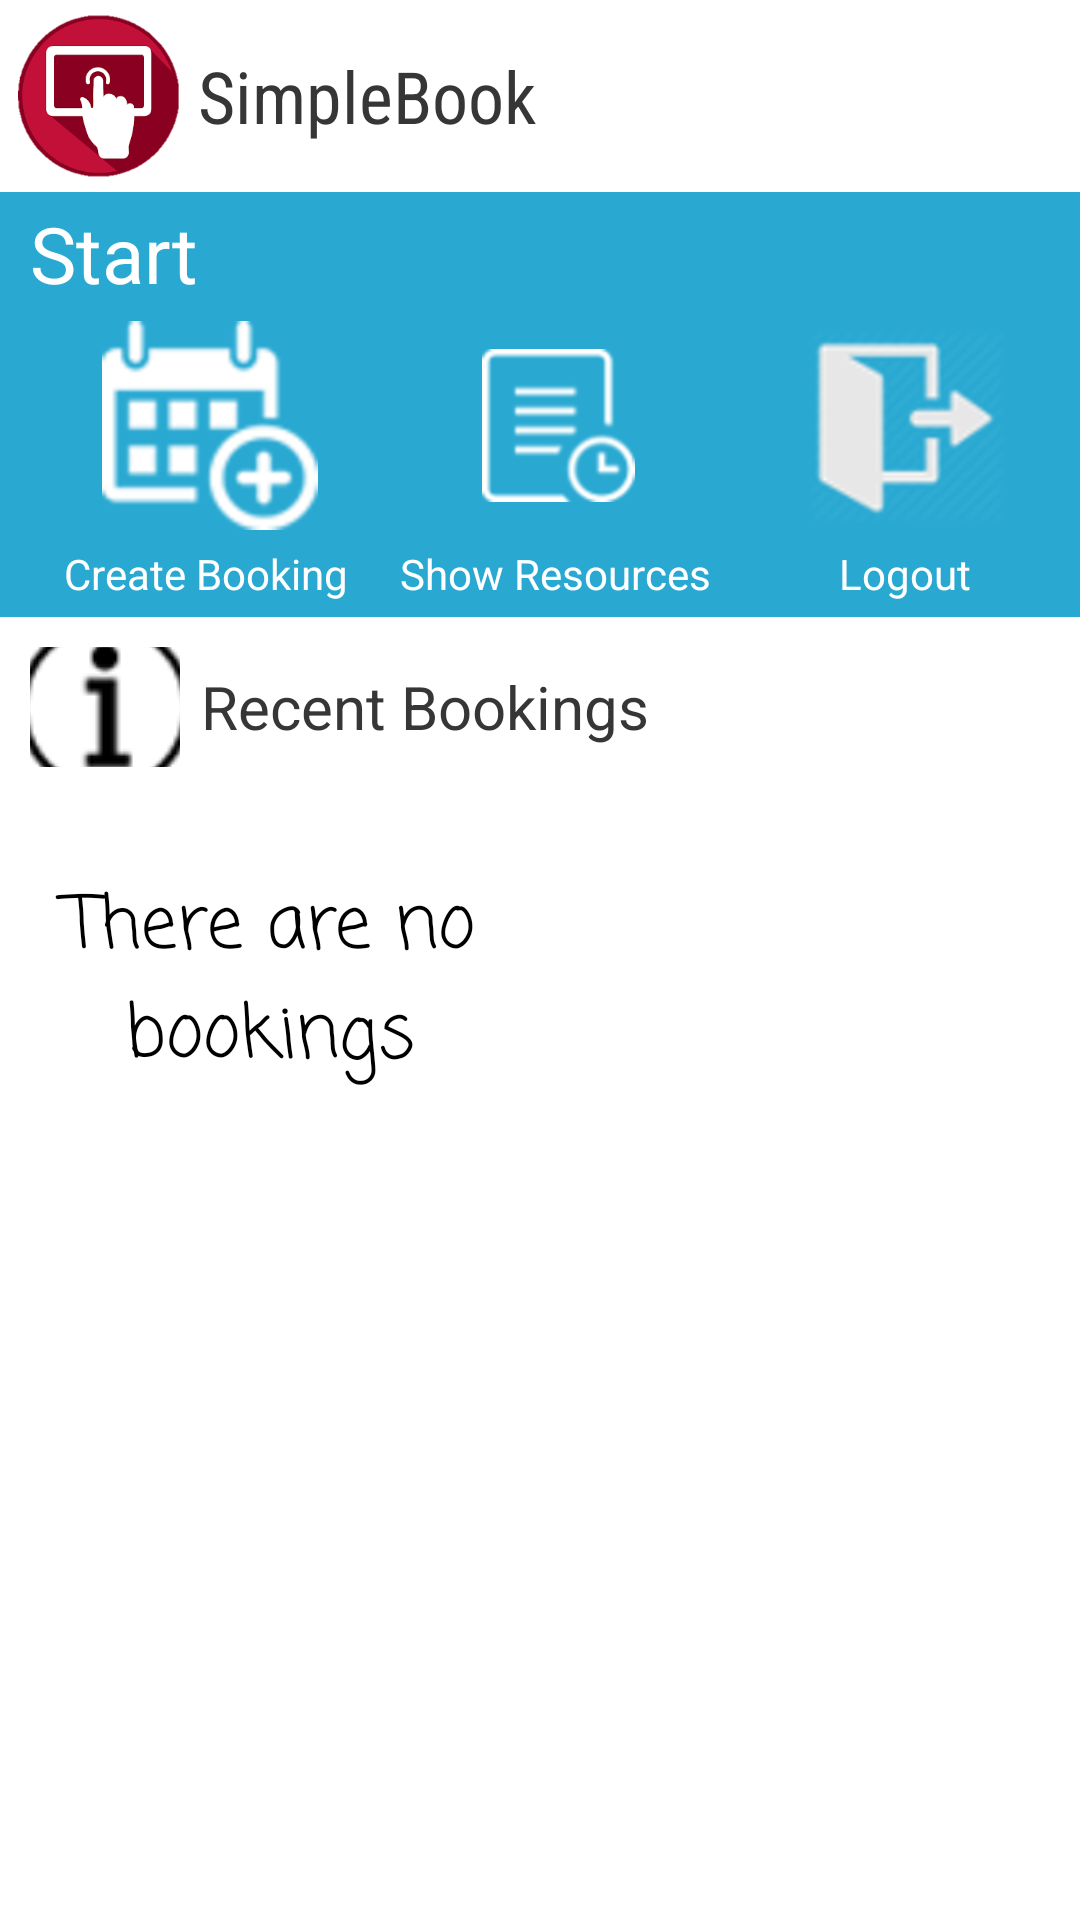

Icons on this 1080 x 1920 Android screen, each with the point to tap as point (x, y):
history: point (558, 425)
info: point (105, 707)
